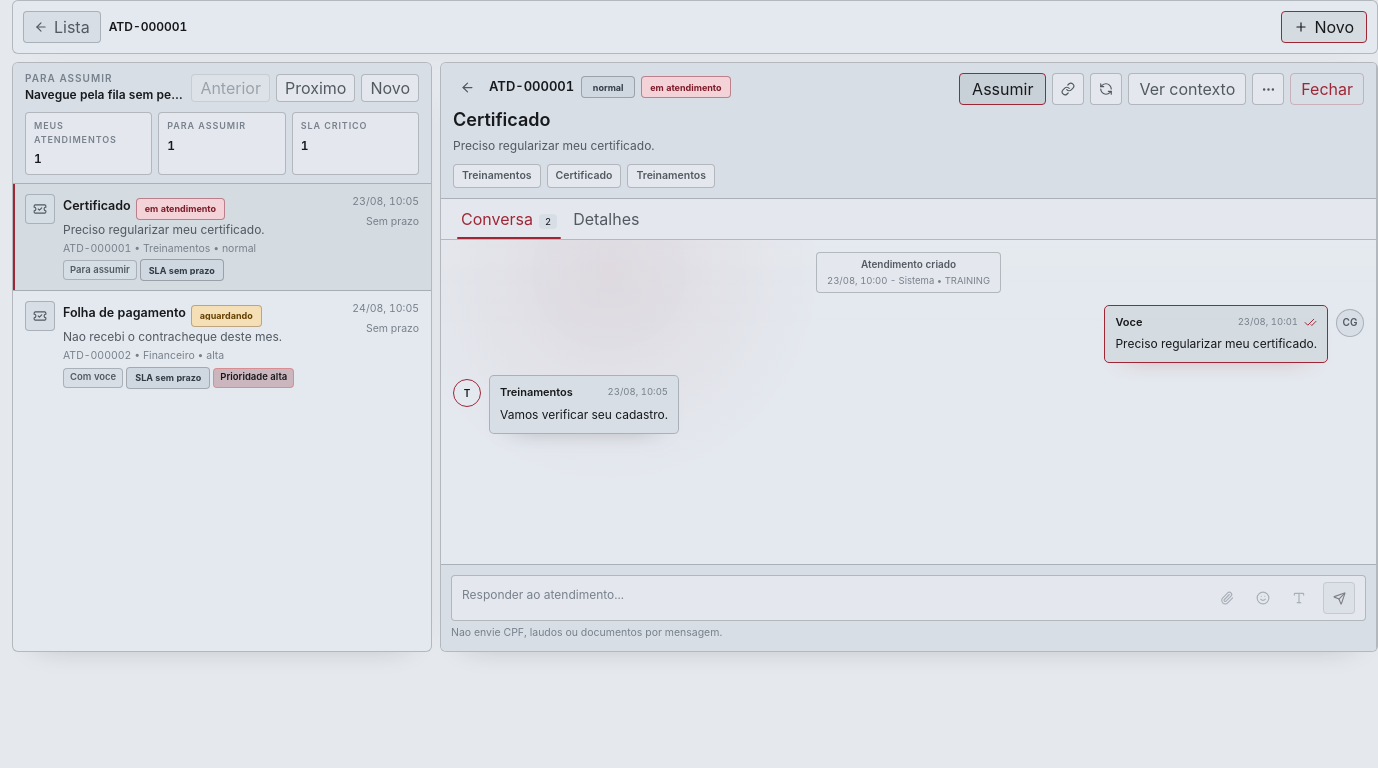
SupportPage › allows support users to move to the next case from the active queue
Check: the heading "Certificado" is shown, box [453,109,550,130]
Click the button "Proximo" at (316, 88), box [276,74,355,102]
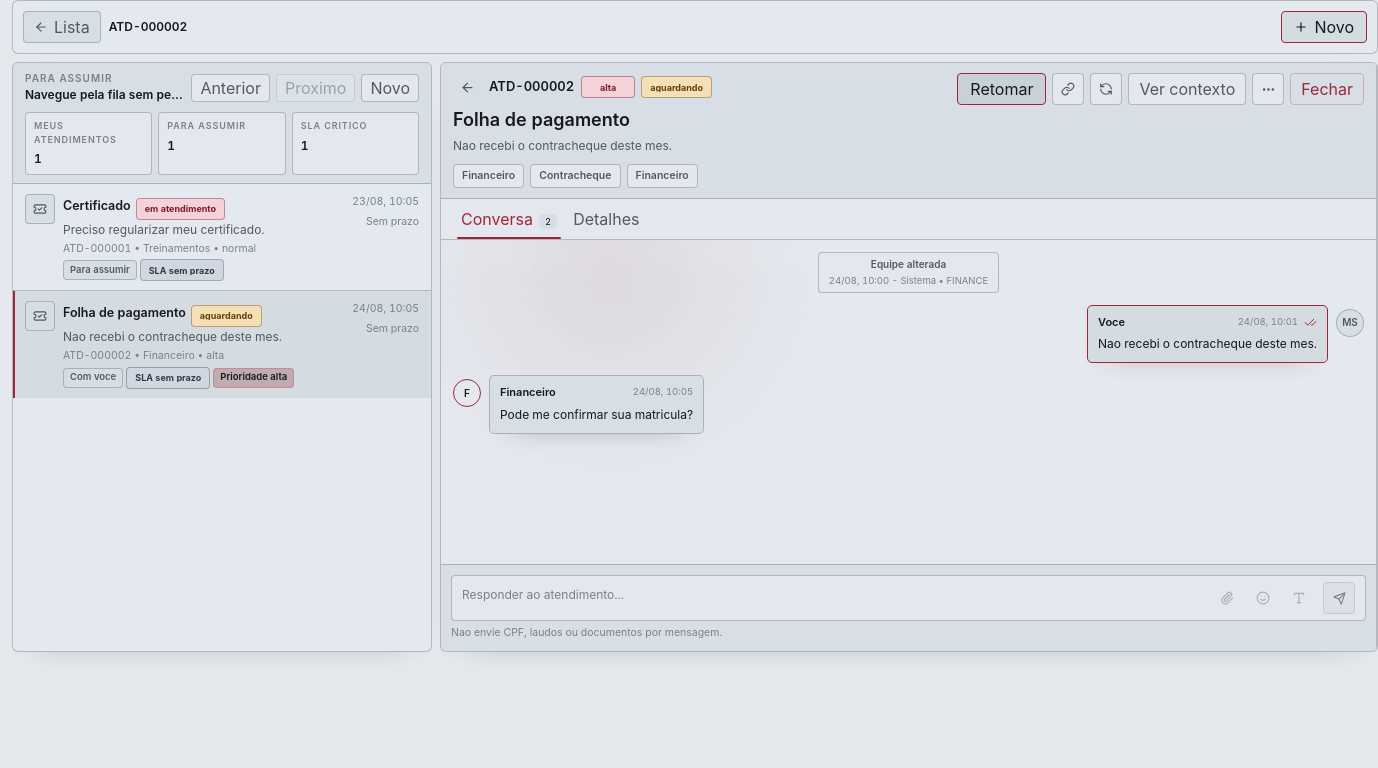
Check: the heading "Folha de pagamento" is shown, box [453,109,630,130]
Check: the text "Pode me confirmar sua matricula?" is shown, box [500,405,693,425]
